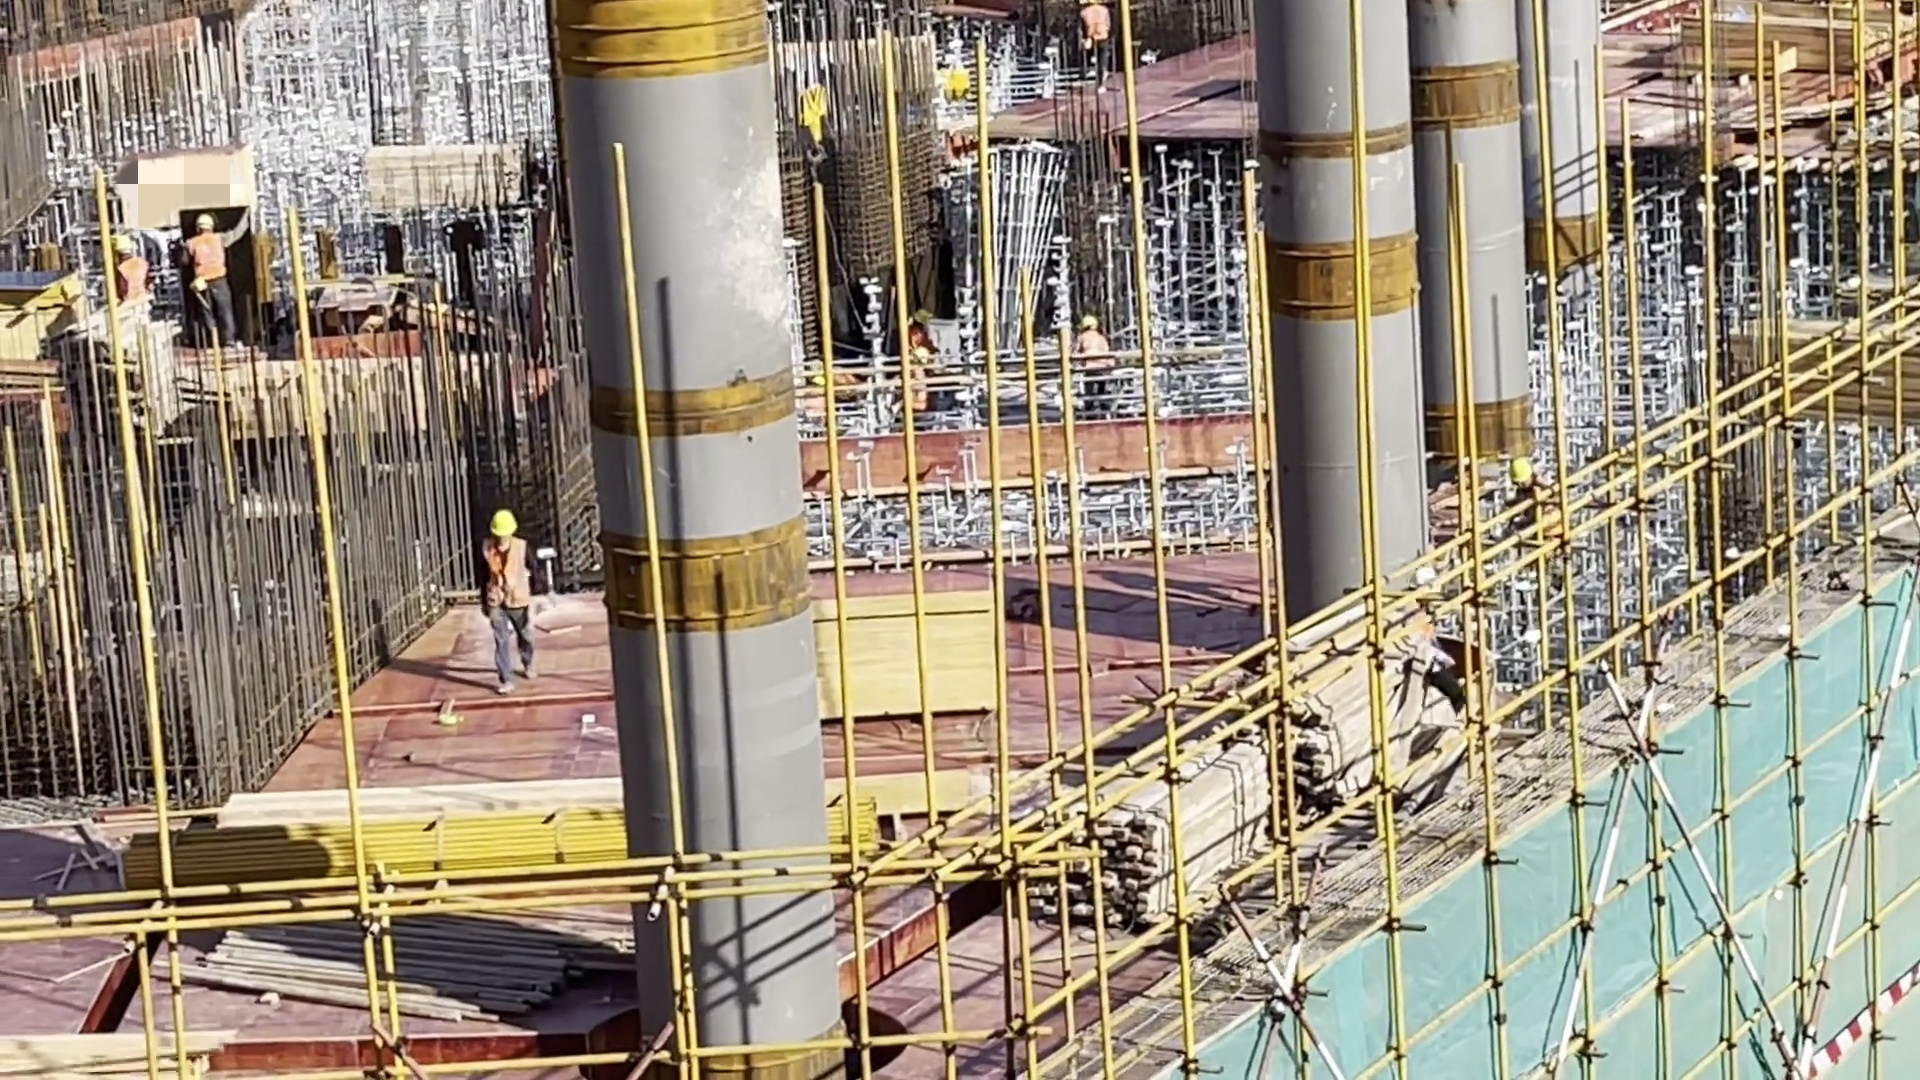helmet: (477, 501, 528, 536), (1511, 456, 1538, 489), (104, 236, 136, 261), (1073, 307, 1099, 336), (190, 210, 215, 239), (917, 307, 936, 329)
person: (475, 503, 542, 703), (176, 210, 254, 347), (1497, 449, 1570, 563), (1072, 308, 1124, 419), (101, 228, 153, 314), (1073, 1, 1114, 94), (897, 344, 937, 407)
vest: (492, 542, 536, 616), (180, 231, 228, 288), (116, 255, 154, 305), (1076, 333, 1114, 380), (1076, 4, 1111, 44)
